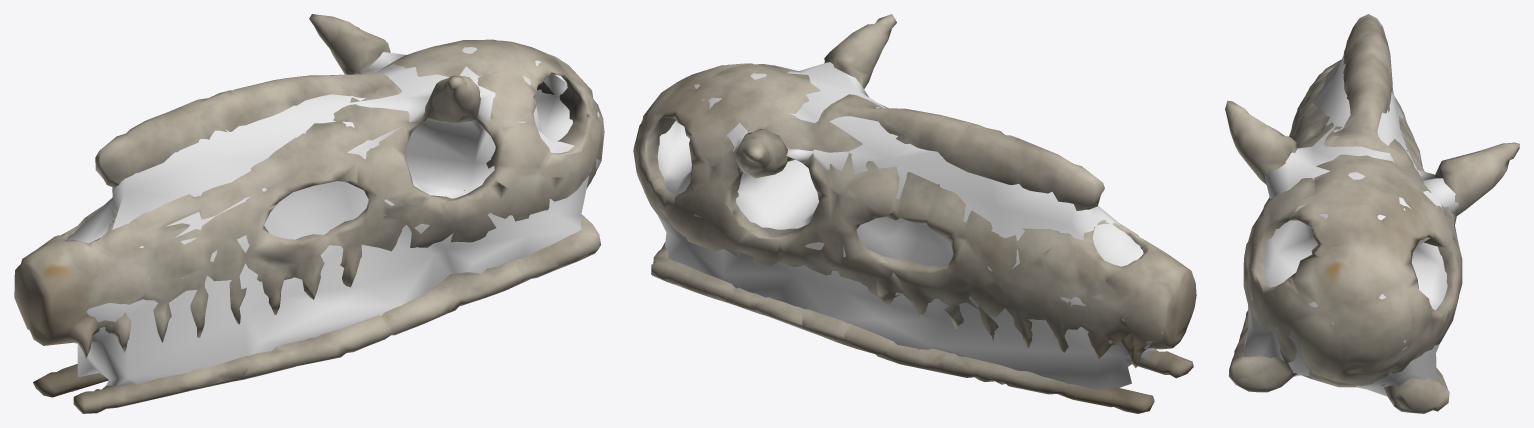
File: PROP_P2_Skull_Large.fbx
3 renders of one model, left to right at view 1: azimuth 30°, elevation 25°; view 2: azimuth 150°, elevation 25°; view 3: azimuth 270°, elevation 25°, orthographic. The views are drawn at different scales.
Parts seen in each view (by area): view 1: PROP_P2_Skull_Large_LOD0, PROP_P2_Skull_Large_COL; view 2: PROP_P2_Skull_Large_LOD0, PROP_P2_Skull_Large_COL; view 3: PROP_P2_Skull_Large_LOD0, PROP_P2_Skull_Large_COL.
Boxes of the visible parts, <box> form: PROP_P2_Skull_Large_LOD0: <box>14,14,604,413</box>; PROP_P2_Skull_Large_COL: <box>66,47,600,386</box>; PROP_P2_Skull_Large_LOD0: <box>633,14,1196,413</box>; PROP_P2_Skull_Large_COL: <box>637,62,1162,390</box>; PROP_P2_Skull_Large_LOD0: <box>1225,14,1519,413</box>; PROP_P2_Skull_Large_COL: <box>1244,55,1458,396</box>.
Size of what is drawn, in the model's own units: 1.77 by 0.8487 by 0.7876.
